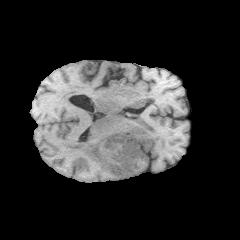glioma: (76, 125, 150, 170)
